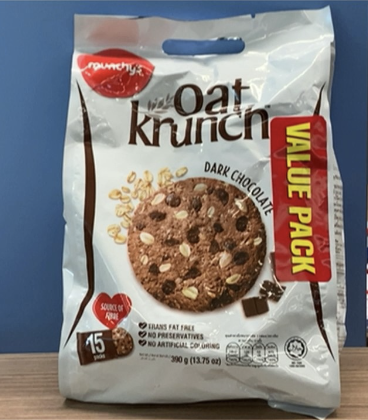cookies_150g: (74, 60, 324, 373)
